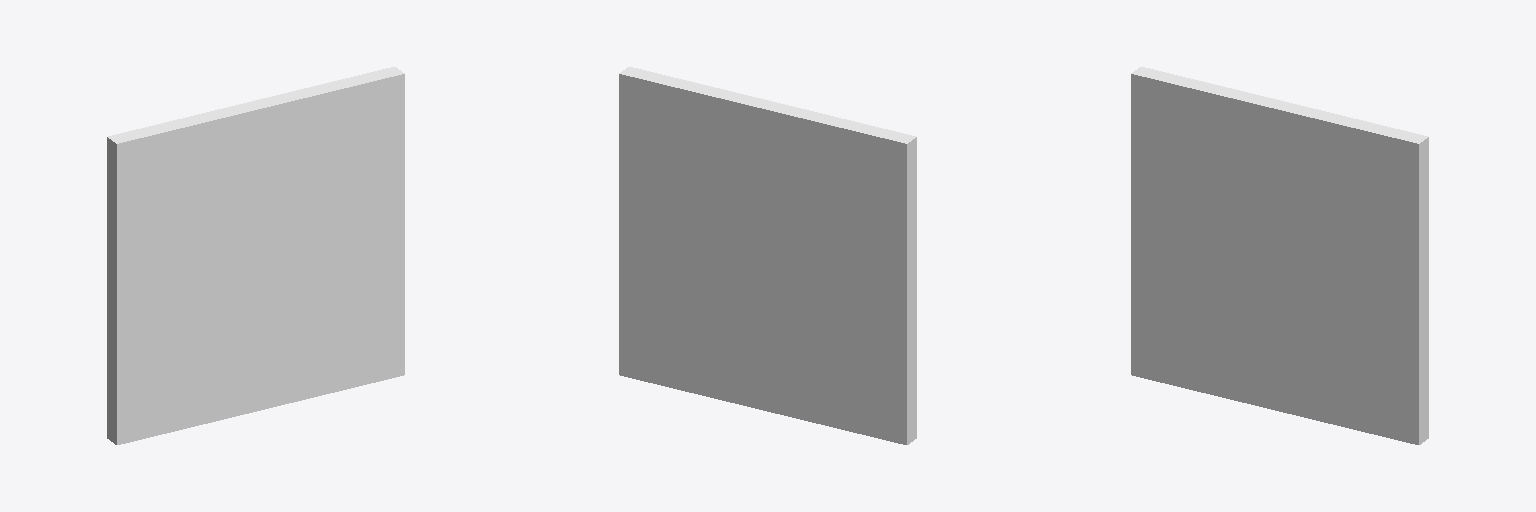
File: basement_wall.obj
The picture shows the model from 3 angles: view 1: azimuth 30°, elevation 25°; view 2: azimuth 150°, elevation 25°; view 3: azimuth 330°, elevation 25°; orthographic projection.
Bounding box in the file's own units: 100 × 100 × 6.